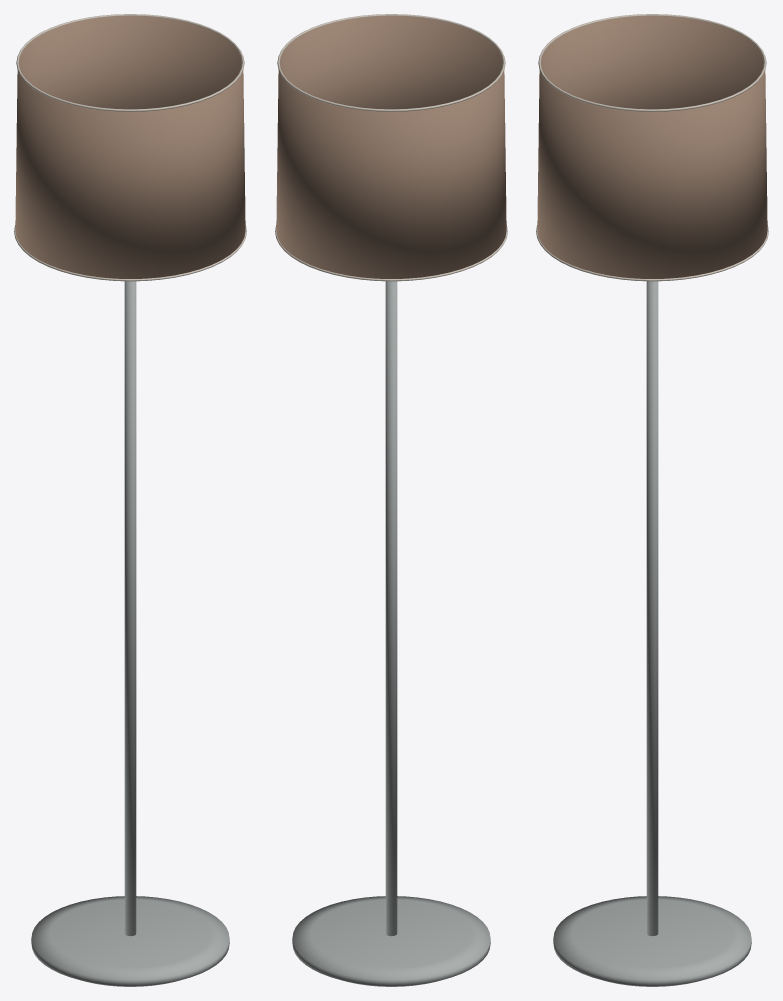
The model's file is modern.floor_lamp.gltf.
The picture shows the model from 3 angles, left to right: view 1: azimuth 30°, elevation 25°; view 2: azimuth 150°, elevation 25°; view 3: azimuth 270°, elevation 25°; orthographic projection.
Visible parts, largest first — view 1: modern.floor_lamp.foot; view 2: modern.floor_lamp.foot; view 3: modern.floor_lamp.foot.
Boxes of the visible parts, x1=… form: modern.floor_lamp.foot: x1=14, y1=14, x2=246, y2=986; modern.floor_lamp.foot: x1=275, y1=14, x2=507, y2=986; modern.floor_lamp.foot: x1=536, y1=14, x2=768, y2=986.
Bounding box in the file's own units: 0.364 × 1.53 × 0.364.
Materials: 4 (1 with a texture image).
